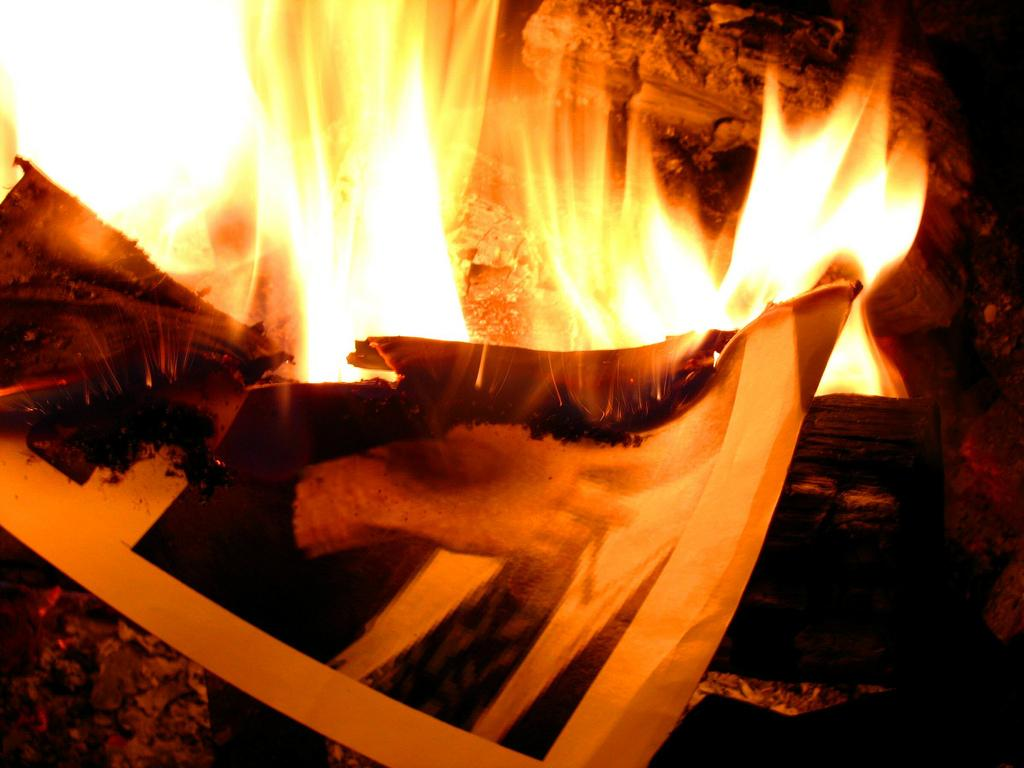fire: (12, 8, 632, 292), (758, 116, 924, 290)
